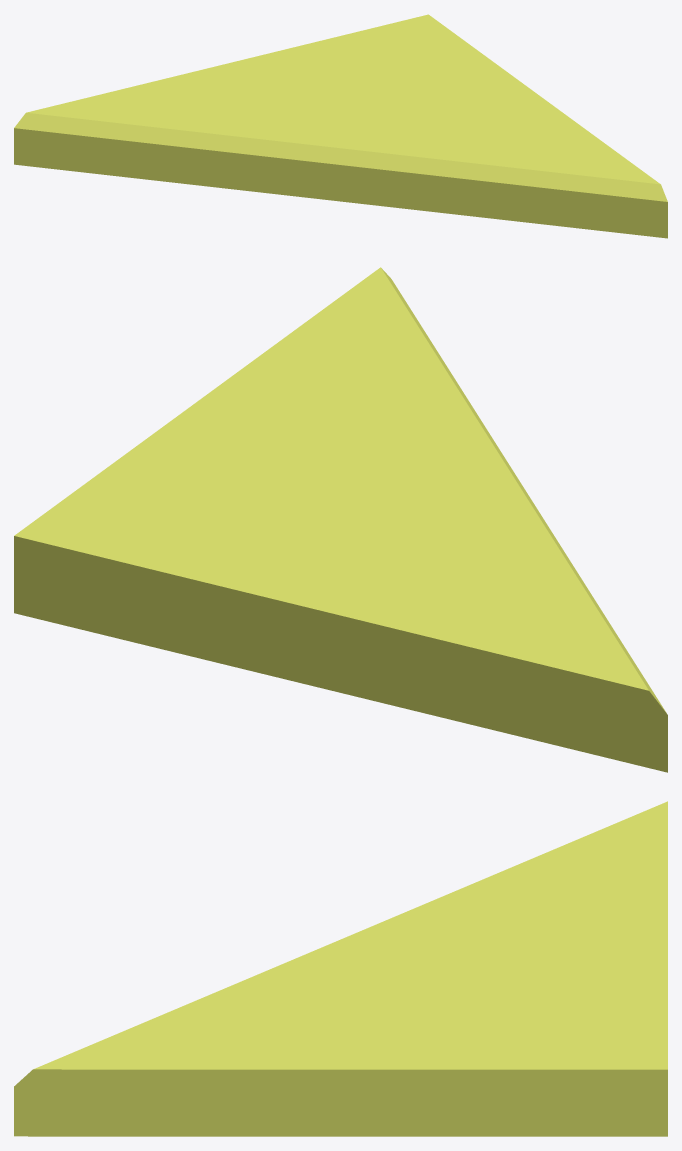
File: Triangle Obstacle.fbx
The picture shows the model from 3 angles, top to bottom: view 1: azimuth 30°, elevation 25°; view 2: azimuth 150°, elevation 25°; view 3: azimuth 270°, elevation 25°; orthographic projection. The views are drawn at different scales.
Visible parts, largest first — view 1: Object001; view 2: Object001; view 3: Object001.
Part boxes in pixels (x1,y1,x2,y2): Object001: [14, 14, 667, 238]; Object001: [14, 267, 667, 772]; Object001: [14, 801, 667, 1136].
Size of the model in its own units: 19.92 by 2.26 by 19.92.
